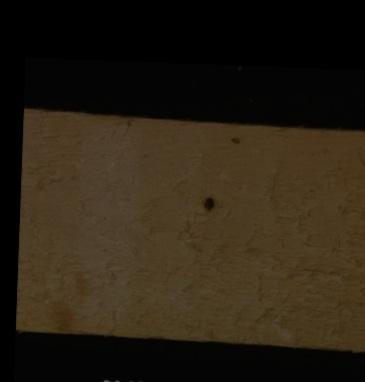dry_knot: (200, 194, 215, 212)
small_knot: (227, 134, 243, 147)
